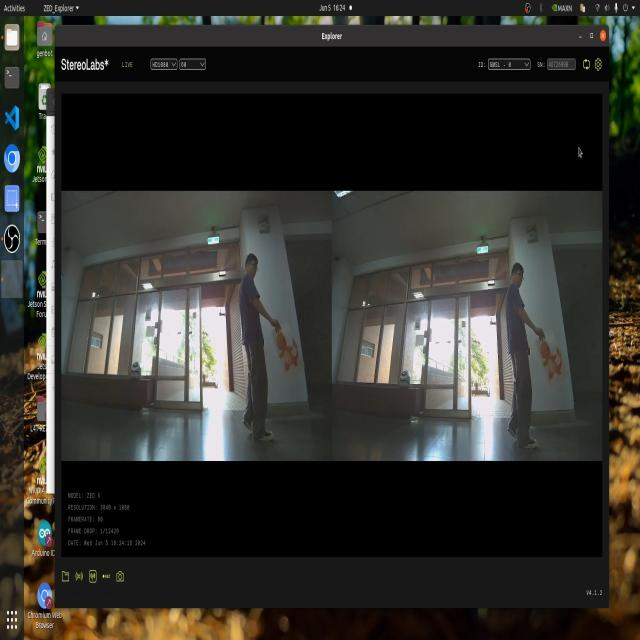red: (272, 327, 302, 369), (538, 339, 561, 385)
